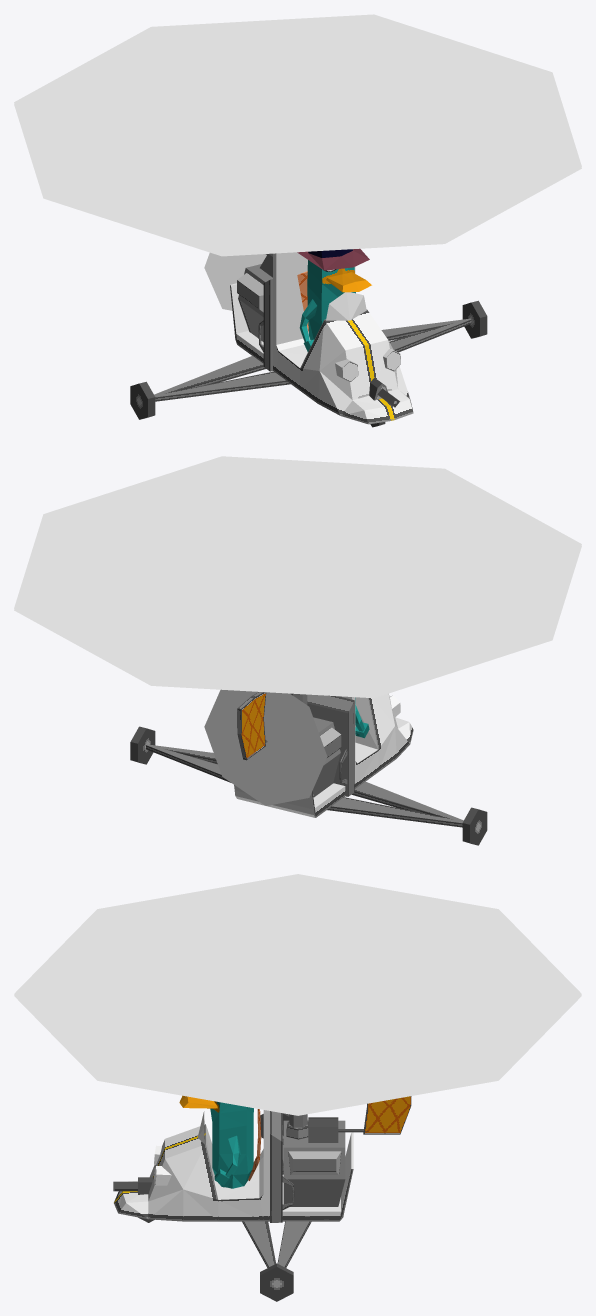
Rendered from Helicopter.obj.
3 renders of one model, top to bottom at view 1: azimuth 30°, elevation 25°; view 2: azimuth 150°, elevation 25°; view 3: azimuth 270°, elevation 25°, orthographic. The views are drawn at different scales.
Visible parts, largest first — view 1: polygon3, polygon4, polygon2, polygon0; view 2: polygon3, polygon4; view 3: polygon3, polygon4, polygon2.
Part boxes in pixels (left/top/right/bottom): polygon3: left=14, top=14, right=581, bottom=320; polygon4: left=130, top=252, right=487, bottom=427; polygon2: left=299, top=249, right=371, bottom=351; polygon0: left=297, top=248, right=369, bottom=271; polygon3: left=14, top=456, right=581, bottom=805; polygon4: left=130, top=692, right=487, bottom=845; polygon3: left=14, top=874, right=581, bottom=1143; polygon4: left=113, top=1096, right=411, bottom=1301; polygon2: left=179, top=1095, right=253, bottom=1188.
Size of the model in its own units: 1.53 by 0.6792 by 1.53.
5 materials, 5 textured.
